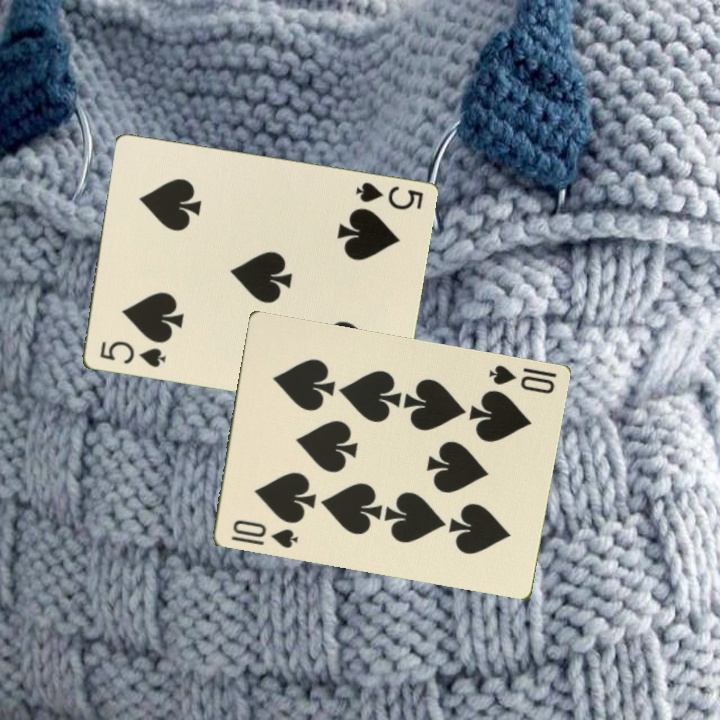10s: (484, 361, 559, 397), (227, 516, 300, 552)
5s: (351, 178, 426, 214), (96, 337, 169, 371)
